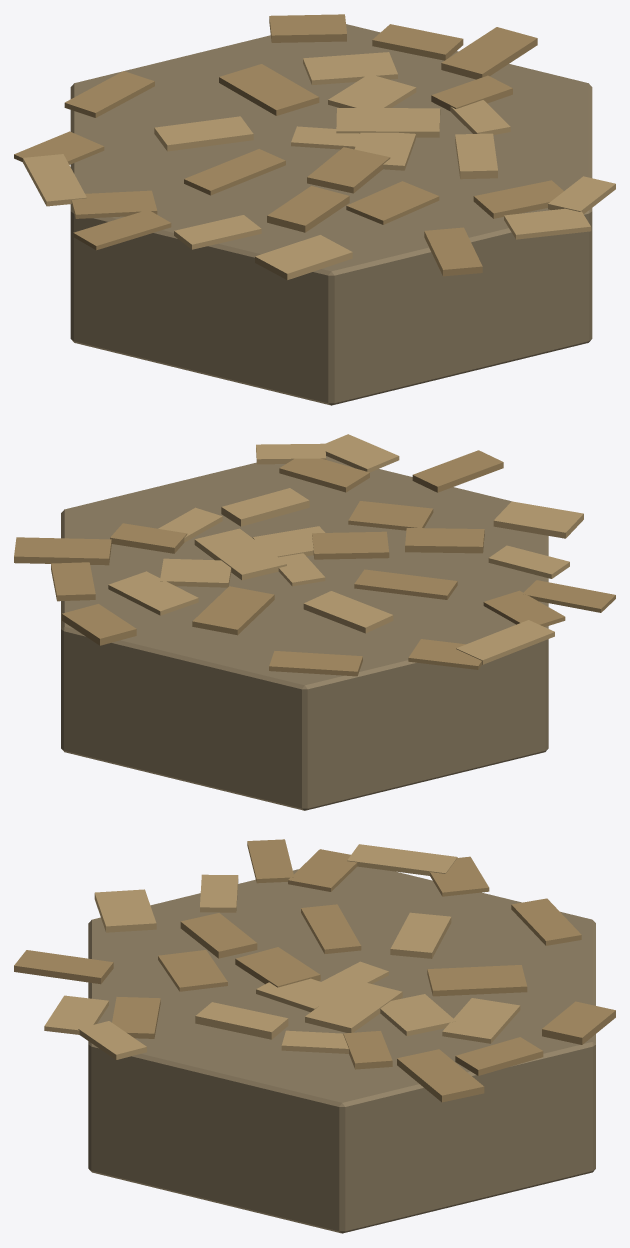
Rendered from tijolo-hex-b.glb.
3 renders of one model, top to bottom at view 1: azimuth 30°, elevation 25°; view 2: azimuth 150°, elevation 25°; view 3: azimuth 270°, elevation 25°, orthographic. The views are drawn at different scales.
Visible parts, largest first — view 1: TijoloHexB; view 2: TijoloHexB; view 3: TijoloHexB.
Part boxes in pixels (x1=…): TijoloHexB: x1=14, y1=14, x2=615, y2=405; TijoloHexB: x1=14, y1=434, x2=615, y2=810; TijoloHexB: x1=14, y1=839, x2=615, y2=1233.
Size of the model in its own units: 2.1 by 0.5224 by 2.05.
